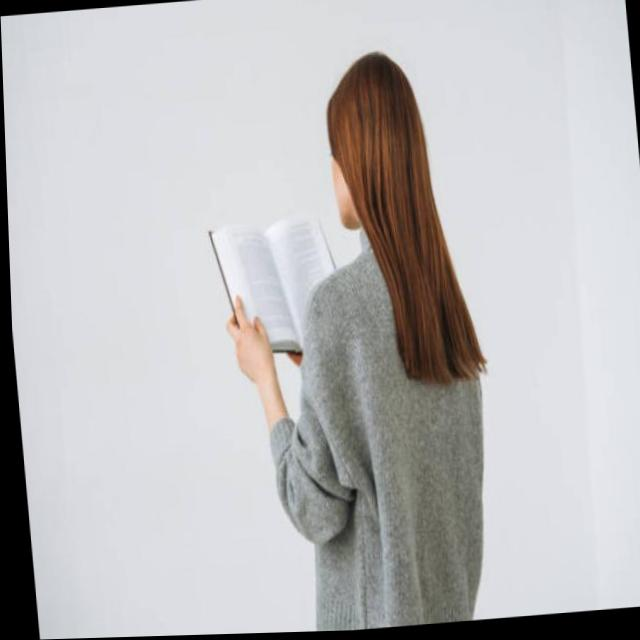no helmet: (295, 31, 517, 432)
